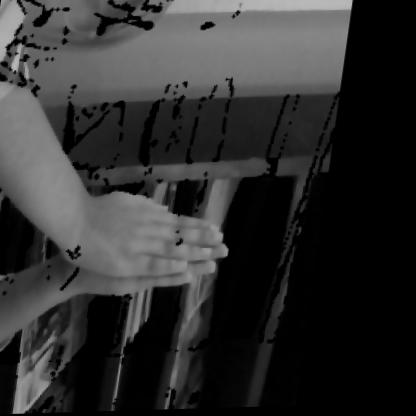namaste: (4, 146, 268, 332)
